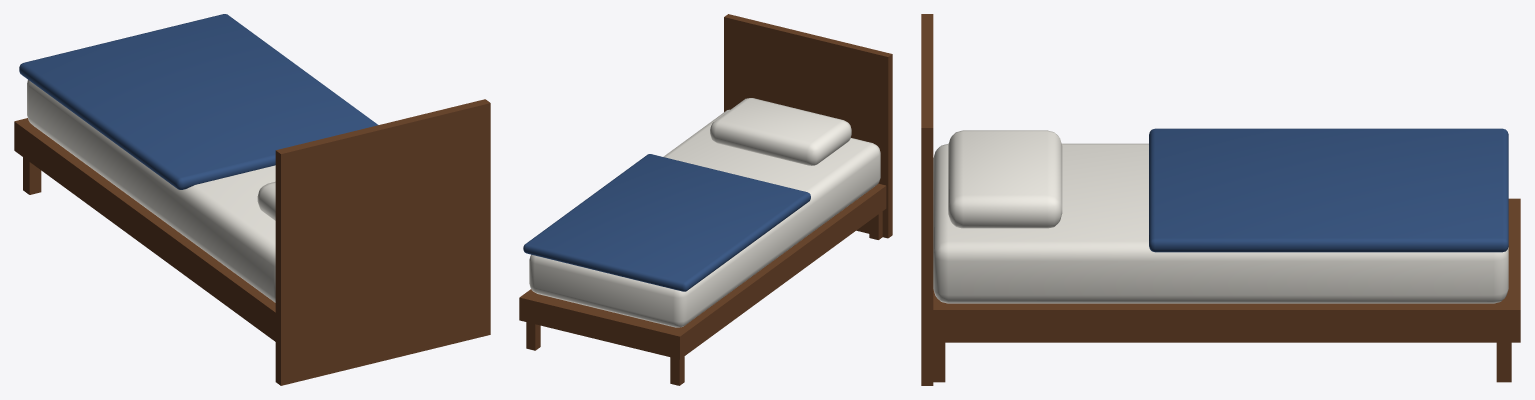
Rendered from fixture.bed_single.glb.
3 views of the same model, side by side, from view 1: azimuth 30°, elevation 25°; view 2: azimuth 150°, elevation 25°; view 3: azimuth 270°, elevation 25° (orthographic). The views are drawn at different scales.
Visible parts, largest first — view 1: frame__hardwood, soft__fabric_blue, soft__fabric_white; view 2: frame__hardwood, soft__fabric_white, soft__fabric_blue; view 3: soft__fabric_white, soft__fabric_blue, frame__hardwood.
Boxes of the visible parts, box(x1,y1,x2,y2) form: frame__hardwood: box(14, 99, 490, 385); soft__fabric_blue: box(19, 14, 378, 189); soft__fabric_white: box(27, 80, 275, 302); frame__hardwood: box(519, 14, 892, 385); soft__fabric_white: box(529, 98, 880, 327); soft__fabric_blue: box(523, 154, 810, 291); soft__fabric_white: box(933, 130, 1508, 303); soft__fabric_blue: box(1149, 128, 1508, 252); frame__hardwood: box(921, 14, 1520, 385).
Bounding box in the file's own units: 0.9 × 0.95 × 2.
